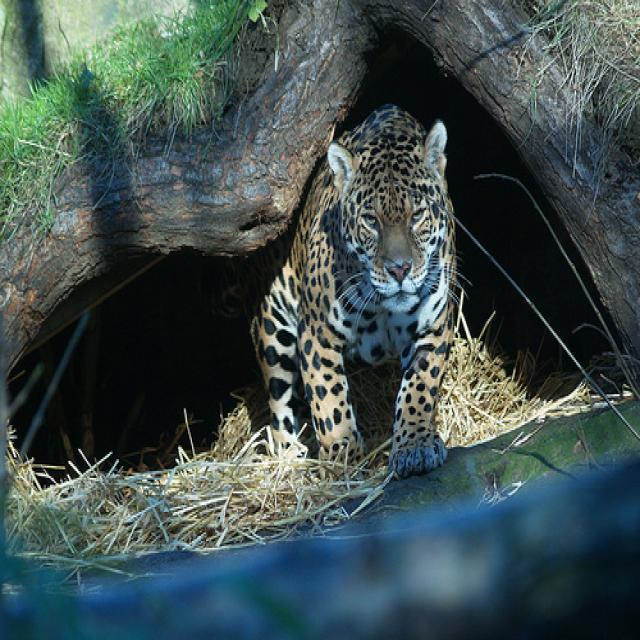Leopard: (239, 94, 471, 483)
